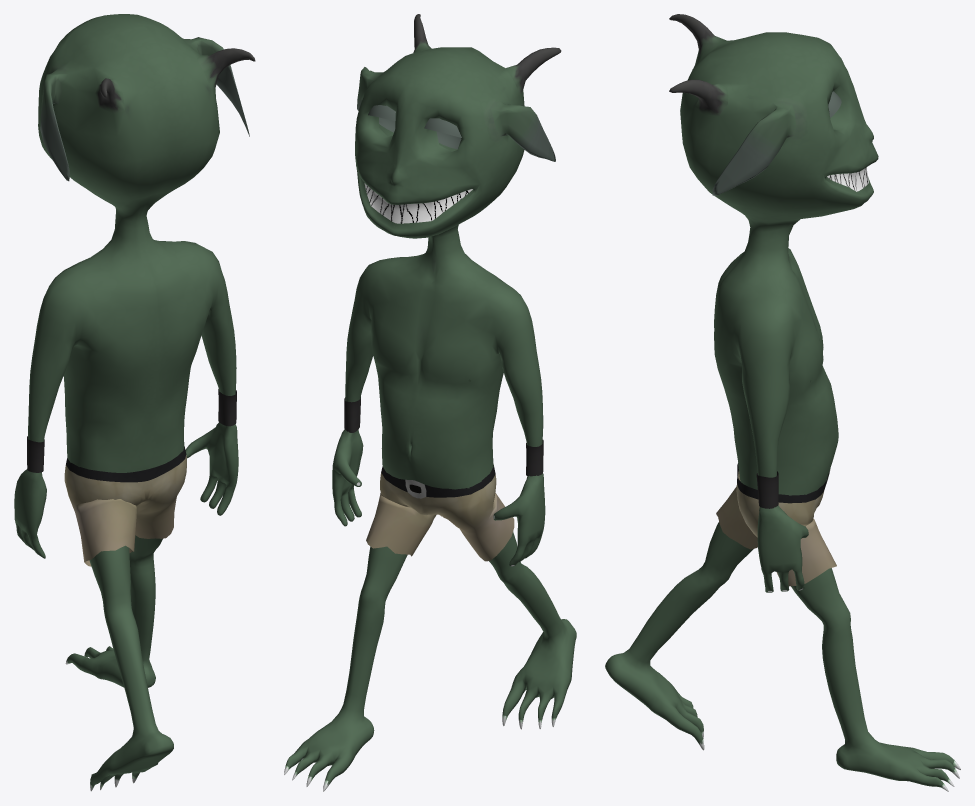
Rendered from lwjglcharactergoblin10_000024.obj.
The picture shows the model from 3 angles, left to right: view 1: azimuth 30°, elevation 25°; view 2: azimuth 150°, elevation 25°; view 3: azimuth 270°, elevation 25°; orthographic projection. The views are drawn at different scales.
Parts seen in each view (by area): view 1: Cube.002; view 2: Cube.002; view 3: Cube.002.
Part boxes in pixels (x1,y1,x2,y2): Cube.002: [14, 14, 255, 791]; Cube.002: [284, 14, 576, 791]; Cube.002: [605, 14, 960, 791].
Size of the model in its own units: 1.18 by 3.86 by 1.71.
